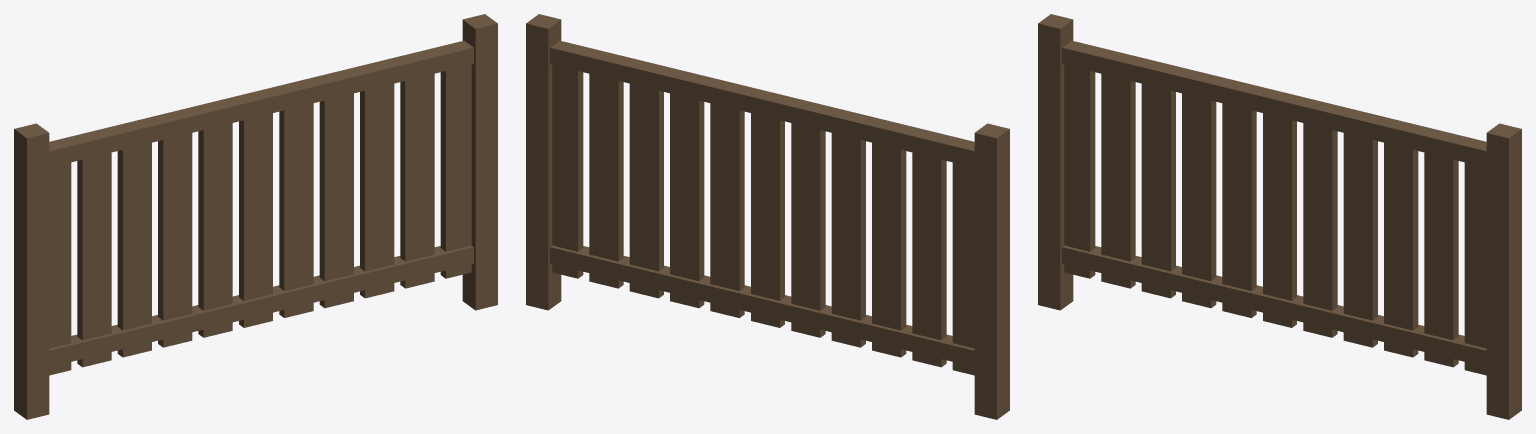
The model's file is fence-wood-module.glb.
3 views of the same model, side by side, from view 1: azimuth 30°, elevation 25°; view 2: azimuth 150°, elevation 25°; view 3: azimuth 330°, elevation 25° (orthographic).
Visible parts, largest first — view 1: fence-wood-module; view 2: fence-wood-module; view 3: fence-wood-module.
Boxes of the visible parts, <box> form: fence-wood-module: <box>14,14,497,419</box>; fence-wood-module: <box>526,14,1009,419</box>; fence-wood-module: <box>1038,14,1521,419</box>.
Size of the model in its own units: 2.1 by 1.2 by 0.1.
